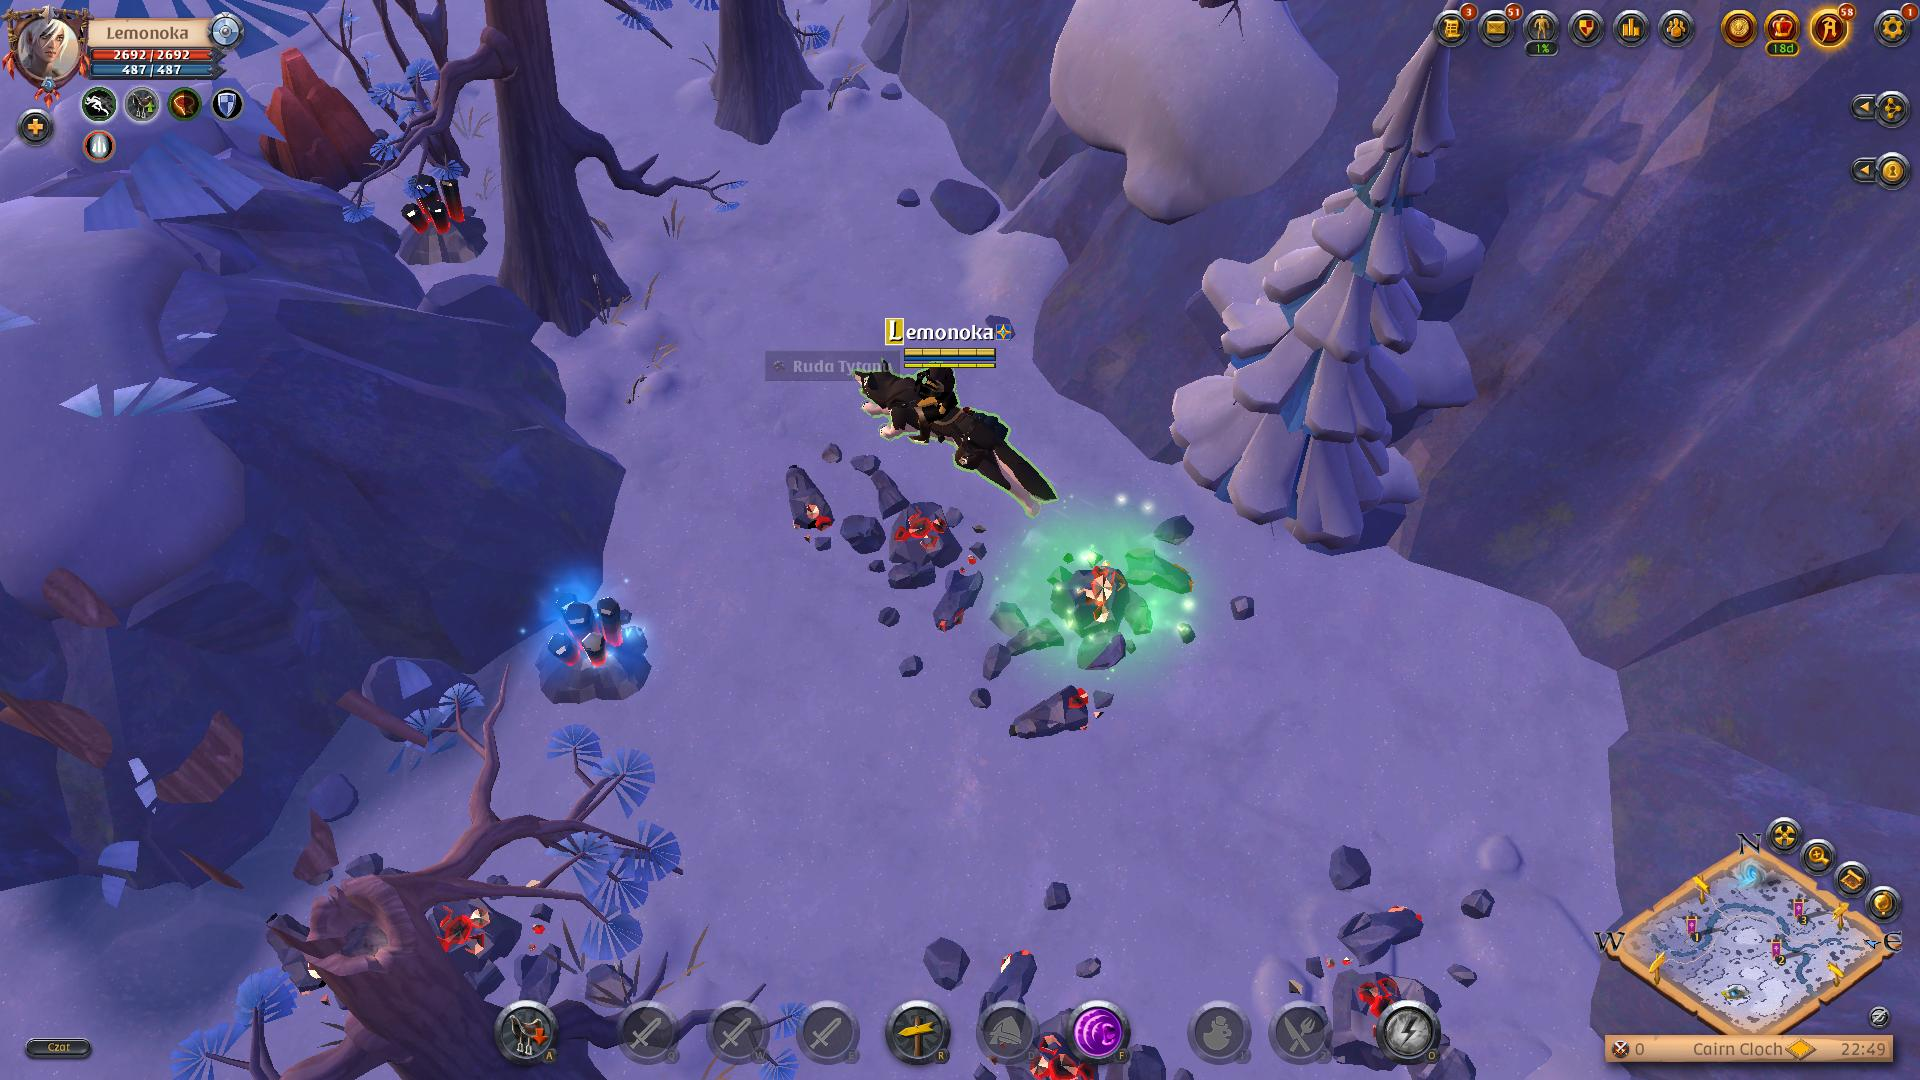ore tier 5: (531, 583, 655, 707), (390, 173, 479, 272)
